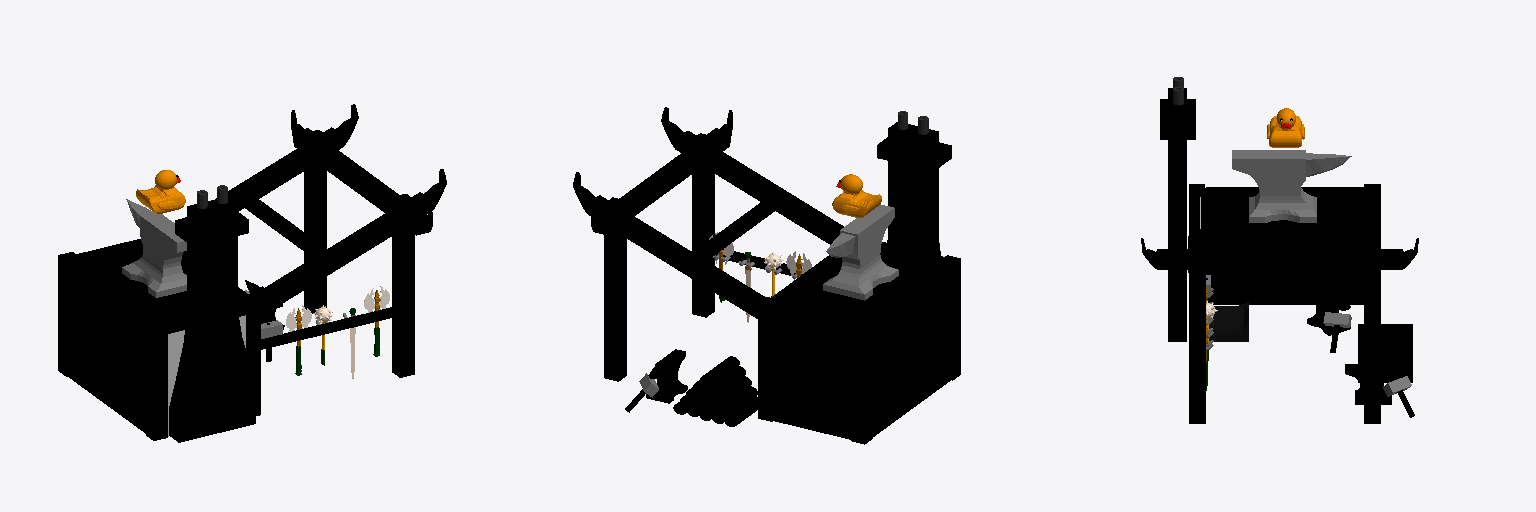
File: DucksUPGRADE2.obj
3 views of the same model, side by side, from view 1: azimuth 30°, elevation 25°; view 2: azimuth 150°, elevation 25°; view 3: azimuth 270°, elevation 25° (orthographic).
Visible parts, largest first — view 1: pCone4 polySurface69, pCone4 polySurface65, pCone4 polySurface17, polySurface9, pCone4 polySurface15, pCone4 polySurface66, polySurface10 pCone4, pCone4 polySurface14, pCone4 polySurface16, pCone4 polySurface23, pCone4 polySurface22, pCone4 polySurface62 (+9 smaller); view 2: pCone4 polySurface60, pCone4 polySurface65, pCone4 polySurface69, pCone4 polySurface16, pCone4 polySurface66, polySurface9, pCone4 polySurface17, pCone4 polySurface14, pCone4 polySurface15, pCone4 polySurface13, pCone4 polySurface12, pCone4 polySurface22 (+10 smaller); view 3: polySurface9, pCone4 polySurface67, pCone4 polySurface66, pCone4 polySurface69, pCone4 polySurface15, pCone4 polySurface14, pCone4 polySurface23, pCone4 polySurface22, pCone4 polySurface19, pCone4 polySurface74, Duck:polySurface2, pCone4 polySurface70 (+3 smaller).
Part boxes in pixels (x1,y1,x2,y2): pCone4 polySurface69: (169,196,255,442); pCone4 polySurface65: (67,274,145,433); pCone4 polySurface17: (255,169,446,316); polySurface9: (122,199,186,297); pCone4 polySurface15: (392,194,414,377); pCone4 polySurface66: (77,244,239,318); polySurface10 pCone4: (146,316,167,440); pCone4 polySurface14: (304,130,326,313); pCone4 polySurface16: (185,104,358,217); pCone4 polySurface23: (355,173,432,235); pCone4 polySurface22: (291,110,368,190); pCone4 polySurface62: (67,261,152,330); pCone4 polySurface60: (773,312,850,439); pCone4 polySurface65: (873,277,951,436); pCone4 polySurface69: (887,122,940,255); pCone4 polySurface16: (573,172,764,318); pCone4 polySurface66: (780,248,940,321); polySurface9: (823,204,898,300); pCone4 polySurface17: (661,107,843,244); pCone4 polySurface14: (604,197,626,381); pCone4 polySurface15: (692,133,714,317); pCone4 polySurface13: (851,319,872,444); pCone4 polySurface12: (758,297,779,421); pCone4 polySurface22: (591,173,668,235); polySurface9: (1232,150,1351,222); pCone4 polySurface67: (1206,270,1363,304); pCone4 polySurface66: (1201,188,1366,233); pCone4 polySurface69: (1168,88,1186,341); pCone4 polySurface15: (1189,242,1205,423); pCone4 polySurface14: (1364,242,1380,423); pCone4 polySurface23: (1141,238,1279,269); pCone4 polySurface22: (1280,238,1418,269); pCone4 polySurface19: (1206,233,1363,245); pCone4 polySurface74: (1209,302,1248,341); Duck:polySurface2: (1267,108,1304,147); pCone4 polySurface70: (1160,99,1195,139).
Bounding box in the file's own units: 14.49 × 11.83 × 11.8.